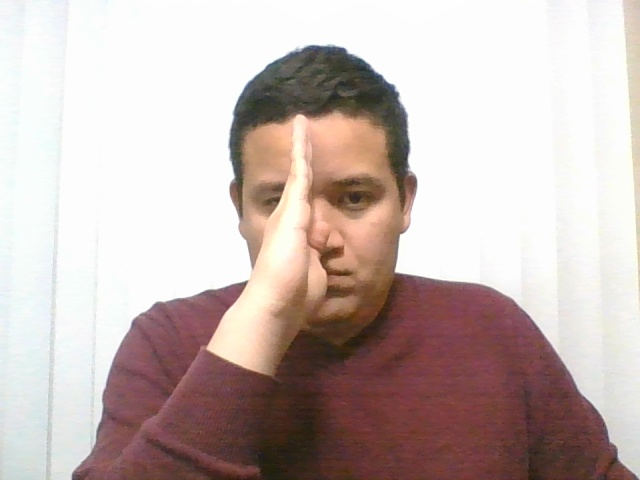God: (184, 97, 393, 373)
